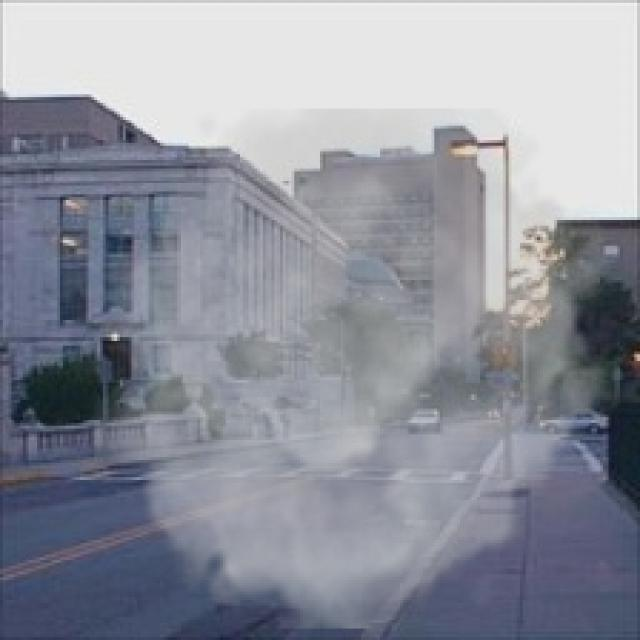smoke: (83, 109, 628, 628)
